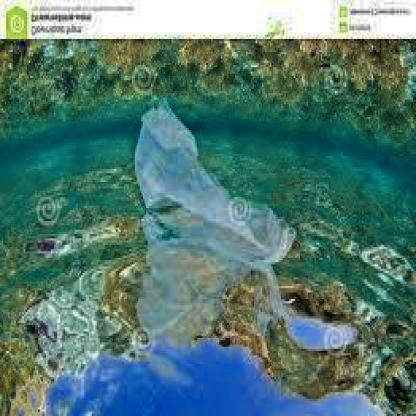pbag: (133, 98, 286, 252)
